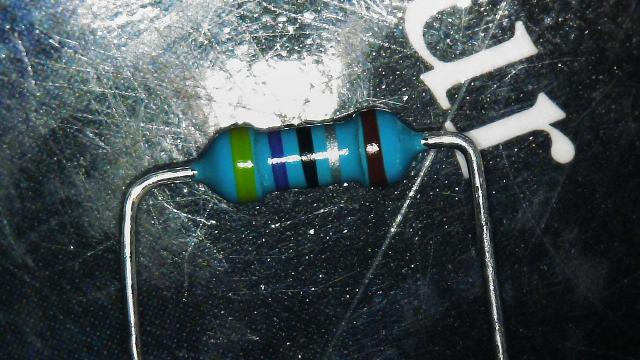black: (296, 126, 319, 188)
brown: (360, 109, 387, 187)
resistor: (189, 104, 432, 210)
silver: (324, 122, 342, 183)
violet: (268, 130, 288, 190)
yellow: (230, 124, 258, 202)
